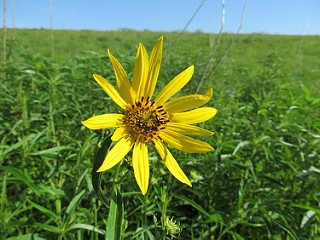flower: (79, 35, 219, 200)
